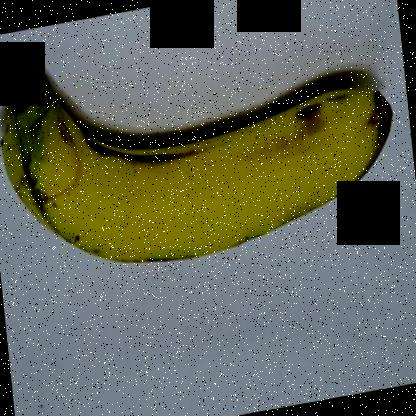freshripe: (1, 42, 401, 266)
